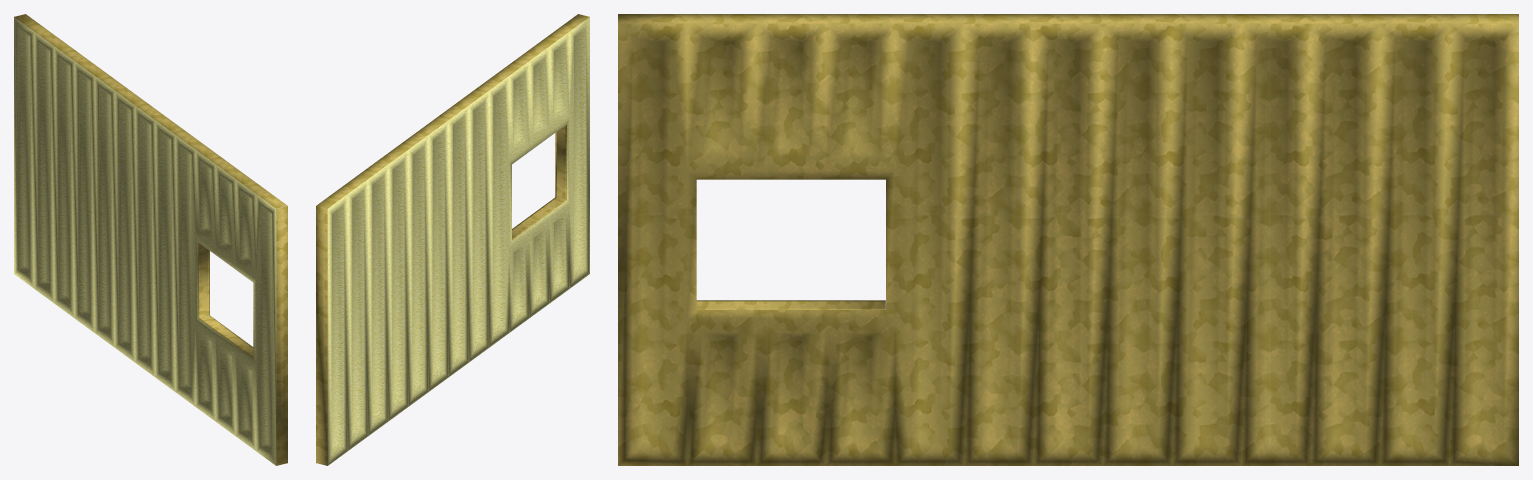
File: containerbackwithtexture.obj
3 views of the same model, side by side, from view 1: azimuth 30°, elevation 25°; view 2: azimuth 150°, elevation 25°; view 3: azimuth 270°, elevation 25° (orthographic). The views are drawn at different scales.
Parts seen in each view (by area): view 1: default; view 2: default; view 3: default.
Boxes of the visible parts, bbox=[...] form: default: bbox=[14, 14, 287, 465]; default: bbox=[316, 14, 589, 465]; default: bbox=[618, 14, 1518, 465].
Size of the model in its own units: 12.27 by 260 by 480.
